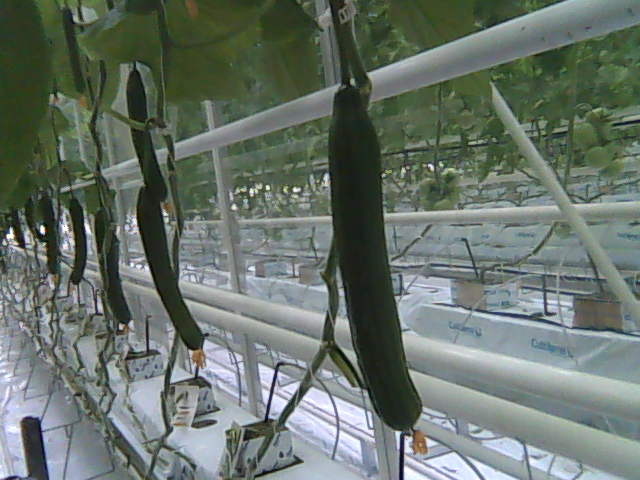concombre: (322, 72, 425, 458), (134, 181, 208, 369), (123, 63, 172, 214)
